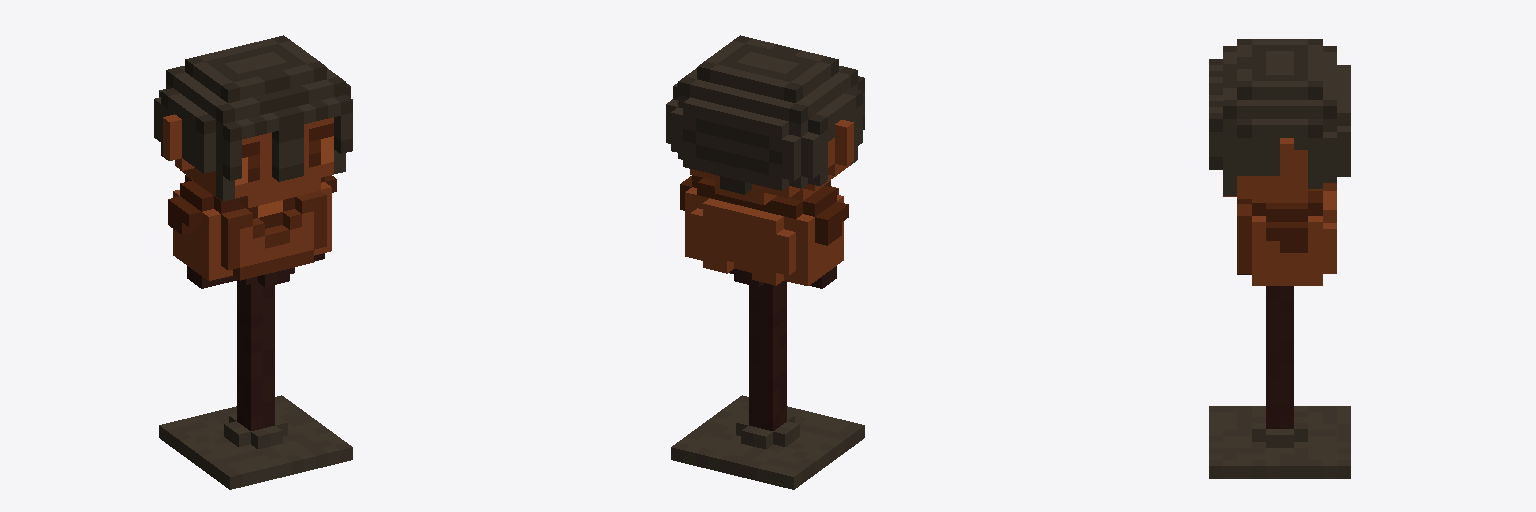
3 renders of one model, left to right at view 1: azimuth 30°, elevation 25°; view 2: azimuth 150°, elevation 25°; view 3: azimuth 270°, elevation 25°, orthographic.
Parts seen in each view (by area): view 1: object 1; view 2: object 1; view 3: object 1.
Boxes of the visible parts, <box> form: object 1: <box>154,35,352,489</box>; object 1: <box>666,35,864,489</box>; object 1: <box>1209,39,1350,478</box>.
Bounding box in the file's own units: 1.4 × 3 × 1.
1 materials, 1 textured.